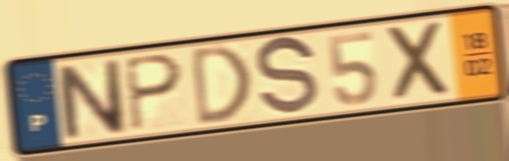5: (324, 28, 380, 108)
D: (188, 41, 254, 130)
N: (51, 56, 131, 143)
P: (121, 51, 187, 135)
S: (253, 32, 322, 121)
X: (383, 17, 455, 106)
